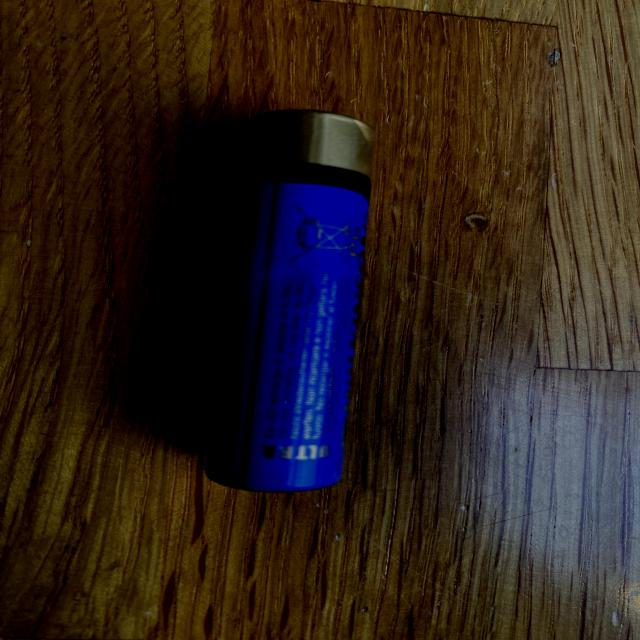AA: (205, 109, 376, 492)
